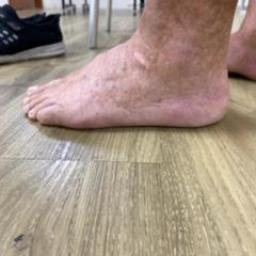Lateral View -Left Foot-: (13, 20, 243, 146)
